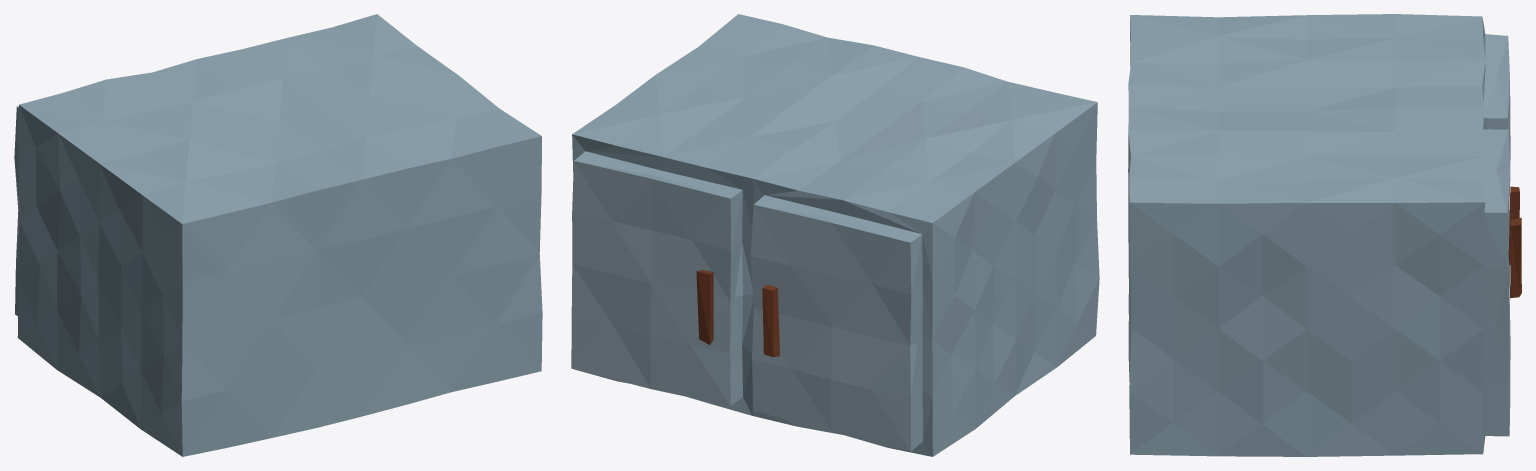
The model's file is kitchen_cabinet.fbx.
The picture shows the model from 3 angles, left to right: view 1: azimuth 30°, elevation 25°; view 2: azimuth 150°, elevation 25°; view 3: azimuth 270°, elevation 25°; orthographic projection. The views are drawn at different scales.
Visible parts, largest first — view 1: kitchen_cabinet; view 2: kitchen_cabinet; view 3: kitchen_cabinet.
Boxes of the visible parts, left/top/right/bottom form: kitchen_cabinet: left=14, top=14, right=542, bottom=456; kitchen_cabinet: left=571, top=14, right=1099, bottom=456; kitchen_cabinet: left=1128, top=14, right=1521, bottom=456.
Bounding box in the file's own units: 78.48 × 49.22 × 68.72.
